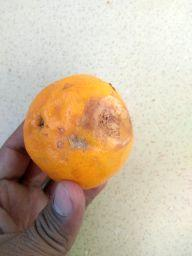Unripe: (23, 75, 133, 189)
